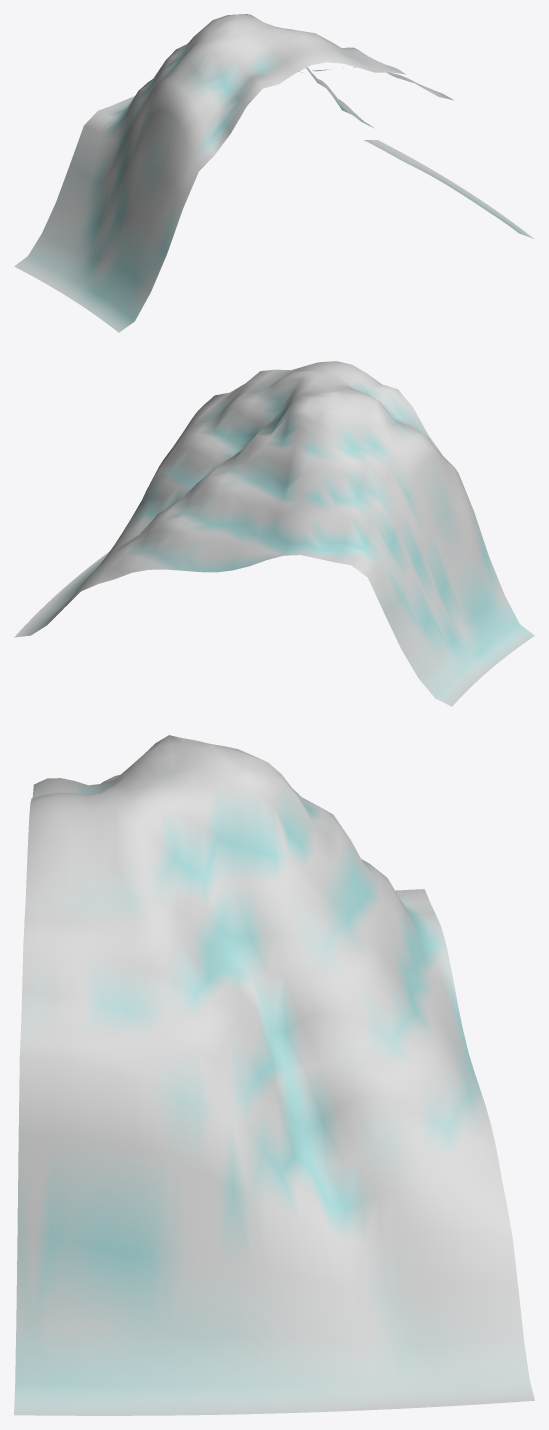
File: near_17.glb
3 renders of one model, top to bottom at view 1: azimuth 30°, elevation 25°; view 2: azimuth 150°, elevation 25°; view 3: azimuth 270°, elevation 25°, orthographic. The views are drawn at different scales.
Visible parts, largest first — view 1: Mountain; view 2: Mountain; view 3: Mountain.
Boxes of the visible parts, x1,y1,x2,y2 form: Mountain: (14, 14, 533, 332); Mountain: (14, 361, 534, 706); Mountain: (14, 735, 534, 1415).
Bounding box in the file's own units: 360 × 197 × 210.
